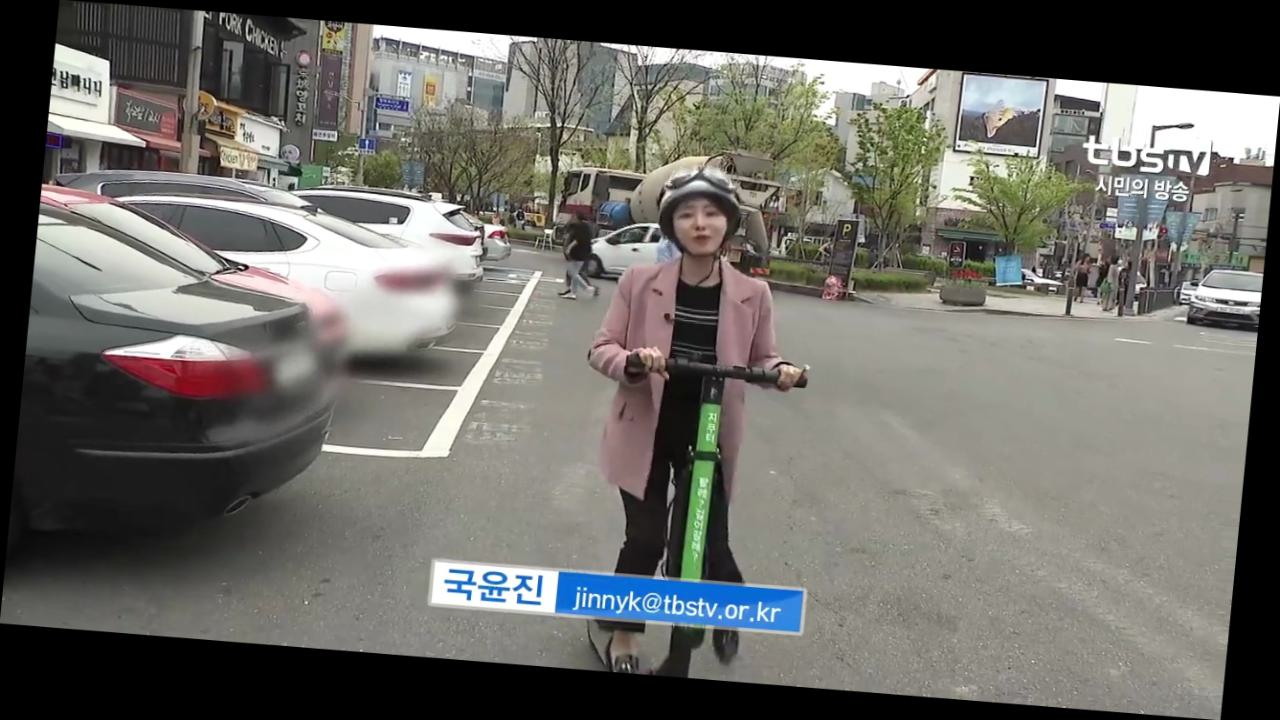helmet: (556, 154, 832, 686)
